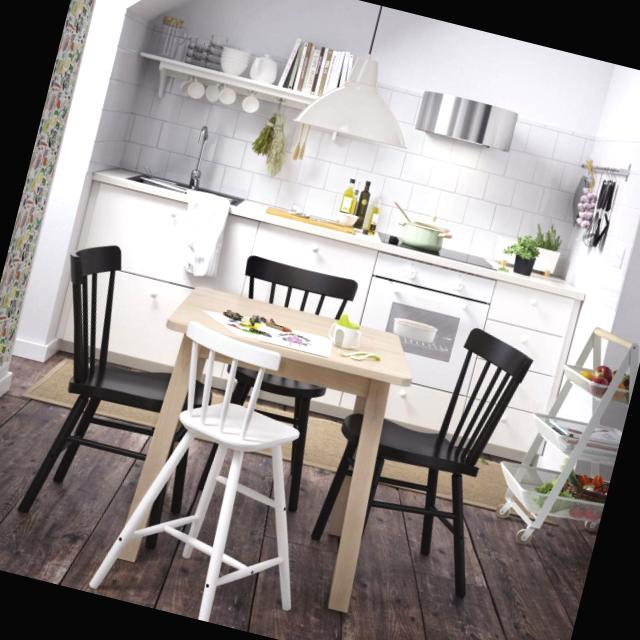obstacle: (0, 206, 542, 640), (488, 308, 640, 551)
